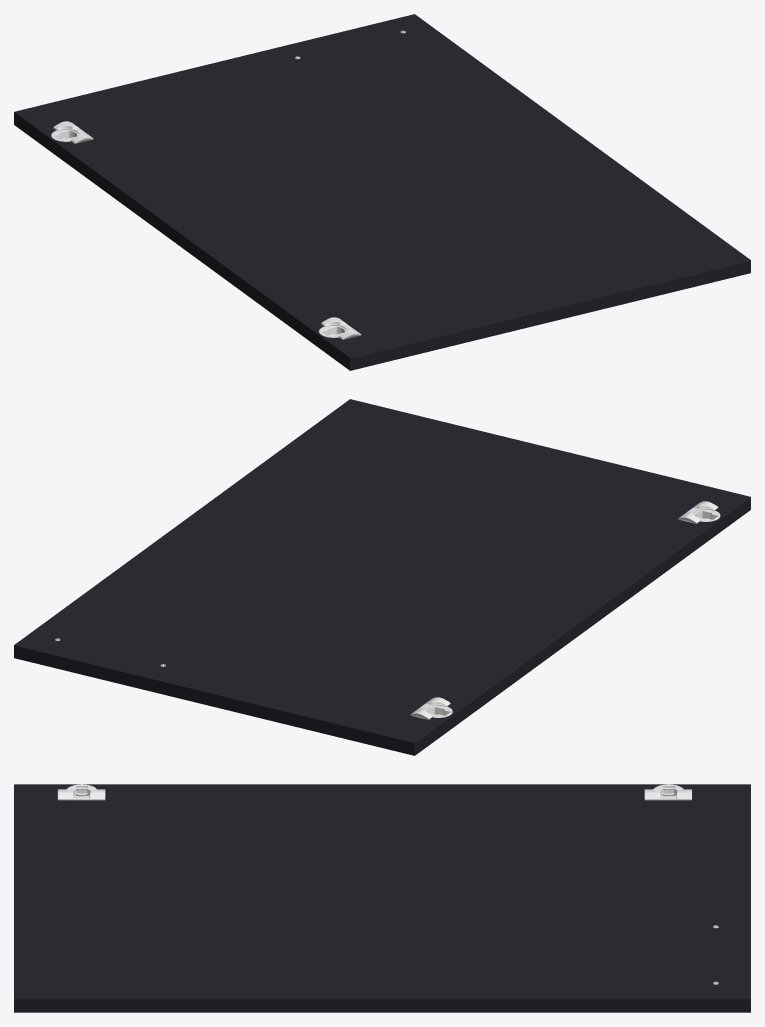
File: SM_Kitchen_01_Door_01.obj
3 views of the same model, one above another, from view 1: azimuth 30°, elevation 25°; view 2: azimuth 150°, elevation 25°; view 3: azimuth 270°, elevation 25° (orthographic). The views are drawn at different scales.
Visible parts, largest first — view 1: SM_Kitchen_01_Door_01; view 2: SM_Kitchen_01_Door_01; view 3: SM_Kitchen_01_Door_01.
Boxes of the visible parts, x1=… form: SM_Kitchen_01_Door_01: x1=14, y1=14, x2=750, y2=370; SM_Kitchen_01_Door_01: x1=14, y1=399, x2=750, y2=755; SM_Kitchen_01_Door_01: x1=14, y1=784, x2=750, y2=1012.
Size of the model in its own units: 0.5969 by 0.0249 by 0.8668.
